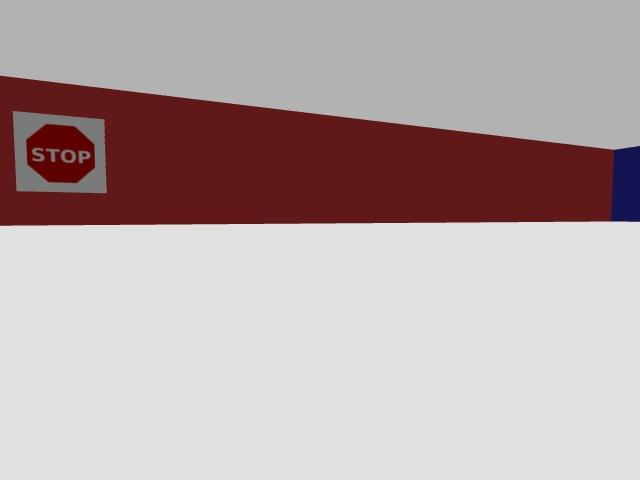stop: (14, 111, 106, 192)
